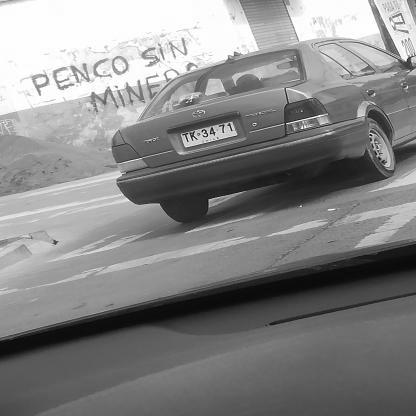Patente: (177, 118, 241, 151)
